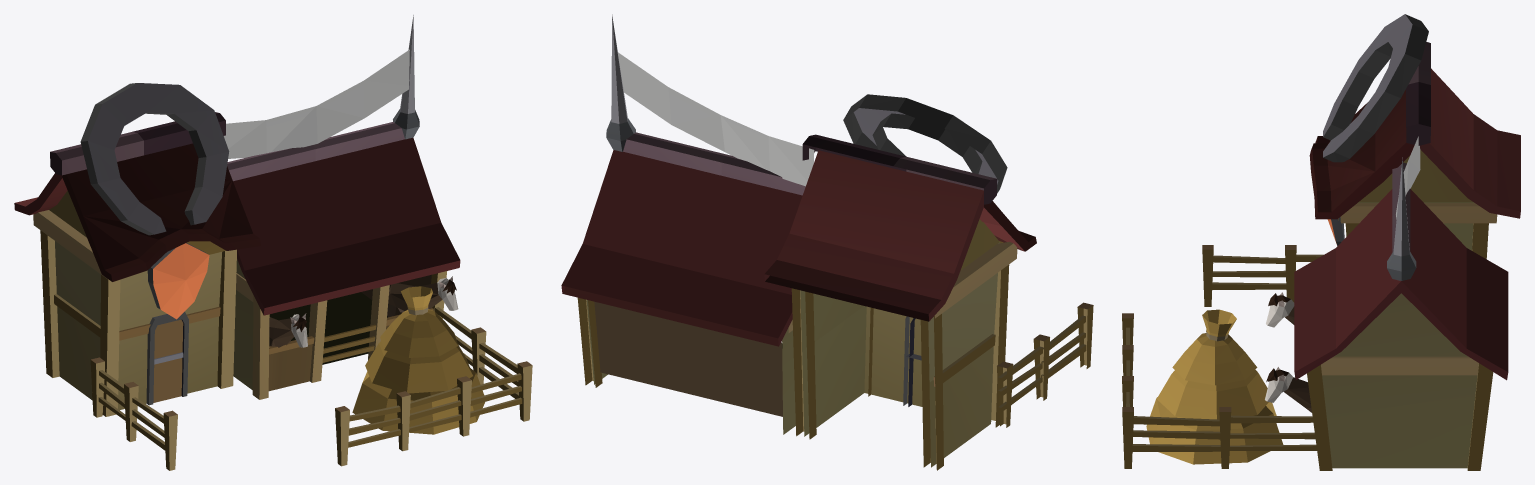
Rendered from building00.fbx.
3 renders of one model, left to right at view 1: azimuth 30°, elevation 25°; view 2: azimuth 150°, elevation 25°; view 3: azimuth 270°, elevation 25°, orthographic. The views are drawn at different scales.
Parts seen in each view (by area): view 1: building00; view 2: building00; view 3: building00.
Part boxes in pixels (x1,y1,x2,y2): building00: (14,15,532,470); building00: (561,14,1093,470); building00: (1122,14,1520,470).
Size of the model in its own units: 2.46 by 2.03 by 2.28.
Materials: 1 (1 with a texture image).
